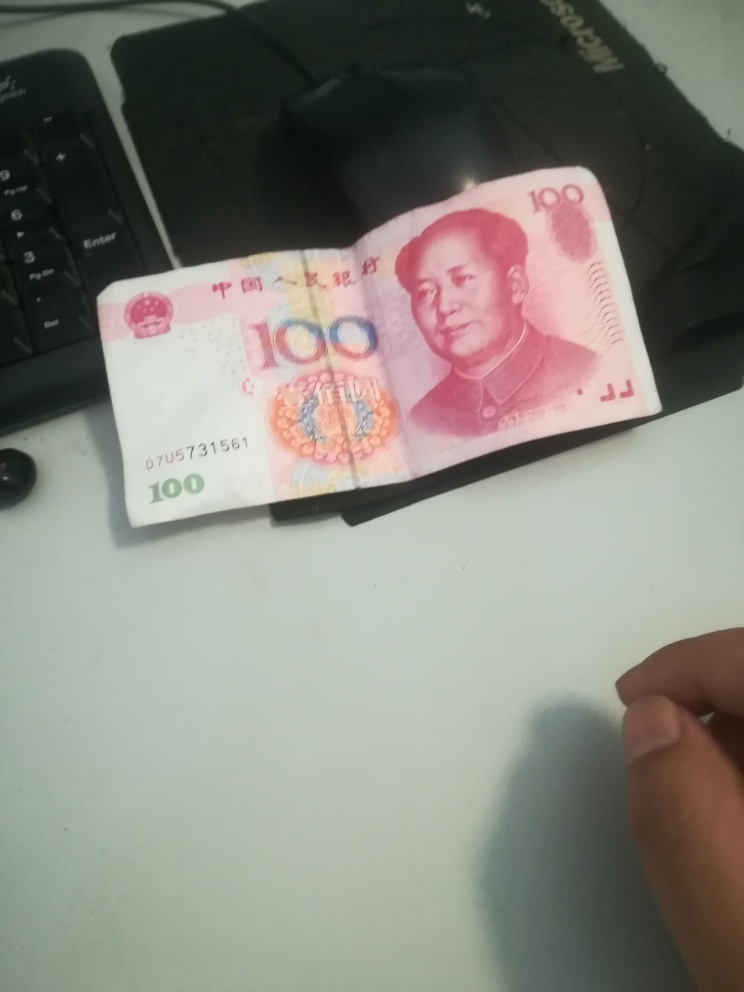rmb: (85, 162, 666, 526)
